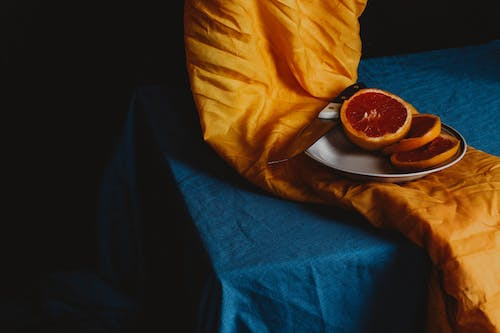knife: (265, 80, 367, 166)
